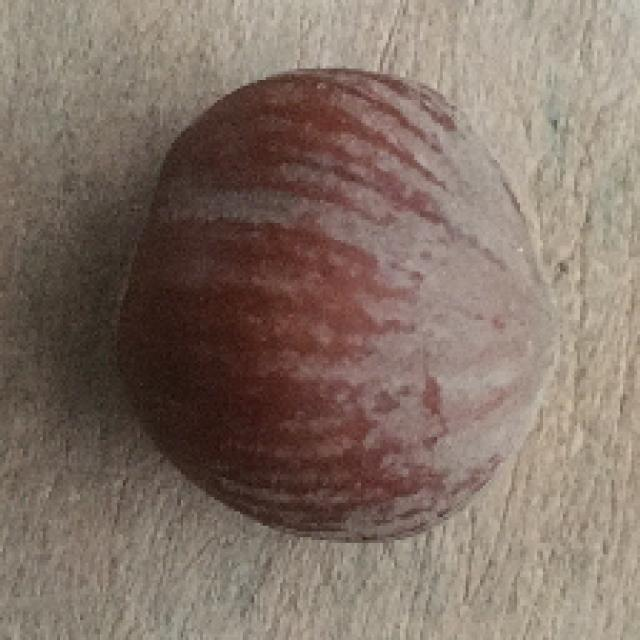qualityHazelnut: (114, 62, 562, 552)
